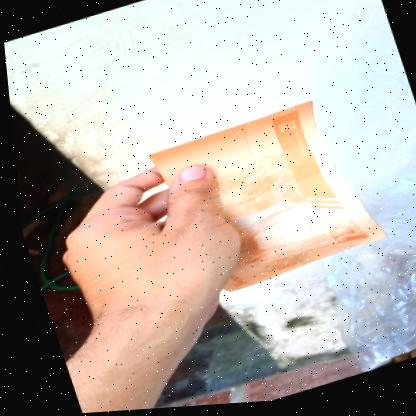twenty-back-vef: (139, 93, 389, 308)
